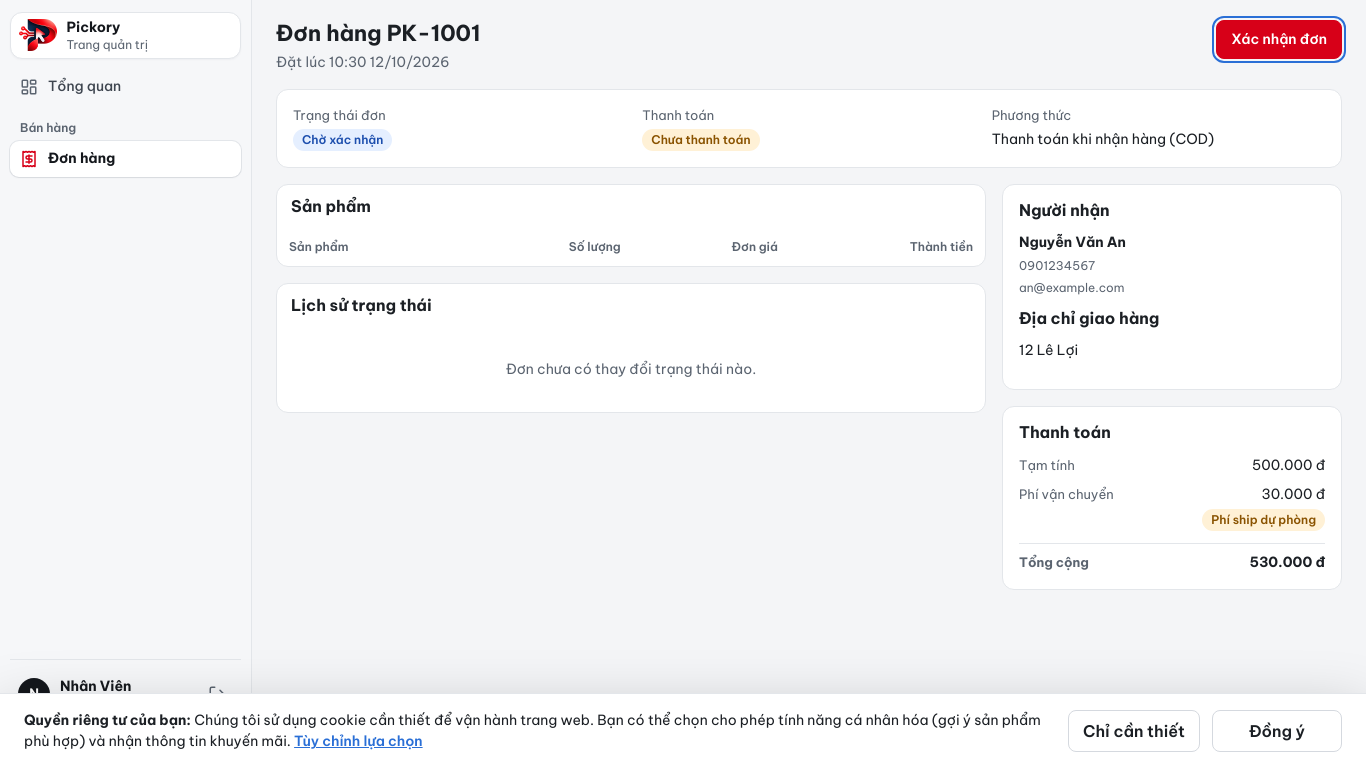
nút thao tác trên chi tiết đơn › xác nhận thành công gửi đúng route, đổi badge và hiện thông báo thành công
Click the button "Xác nhận đơn" at coordinates (1279, 40), box [1216,20,1342,59]
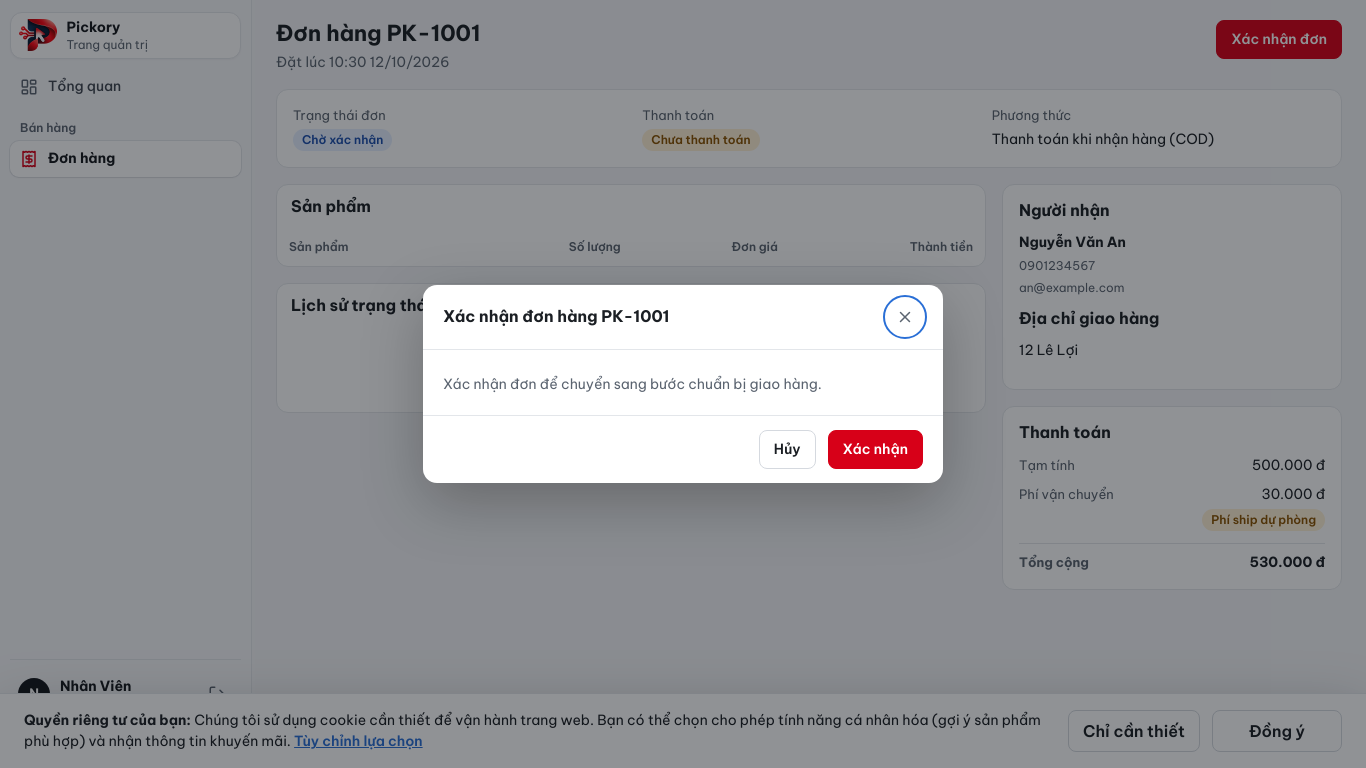
Now the dialog is shown, box [423,285,943,483]
Click the button "Xác nhận" at coordinates (875, 450), box [828,430,923,469]
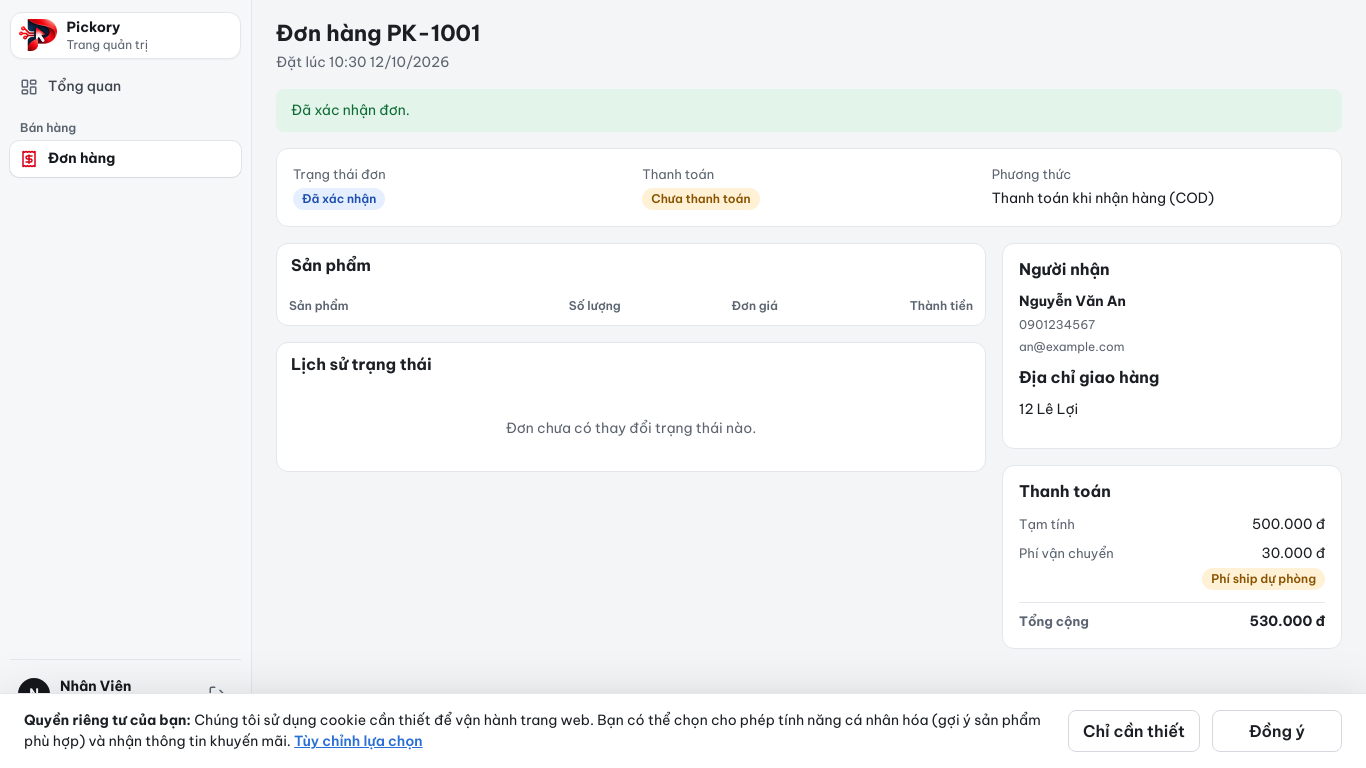
Now the text "Đã xác nhận" is shown, box [291,100,410,118]
Now the message "Đã xác nhận đơn." is shown, box [276,88,1342,132]
